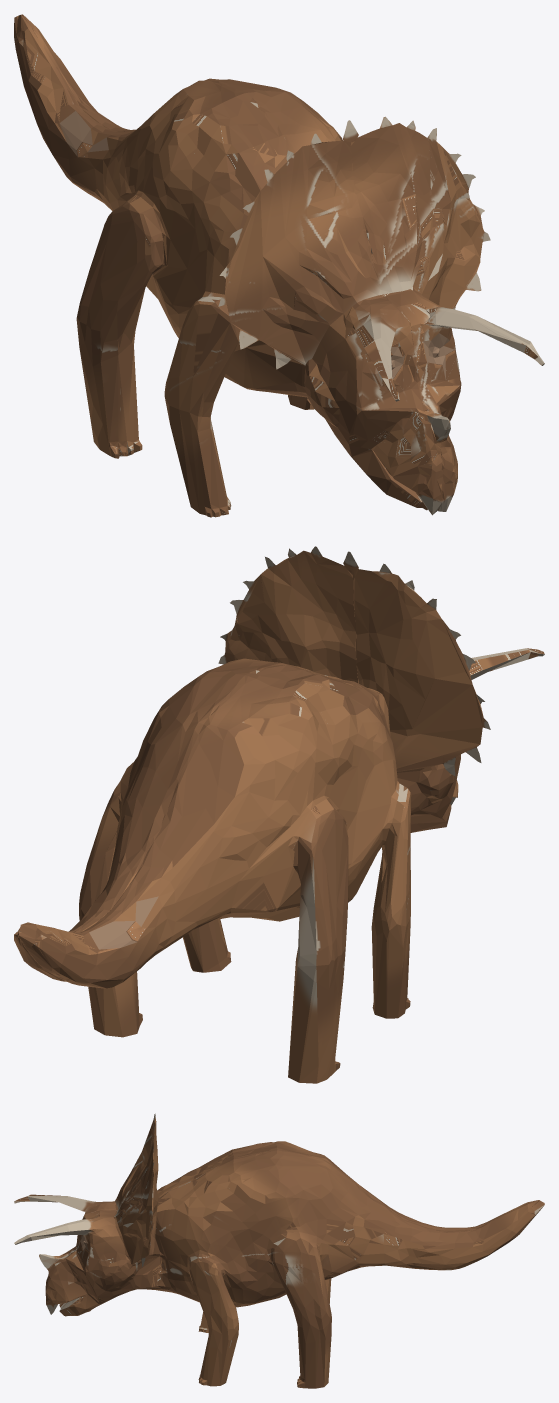
File: triceratops 1.fbx
3 views of the same model, one above another, from view 1: azimuth 30°, elevation 25°; view 2: azimuth 150°, elevation 25°; view 3: azimuth 270°, elevation 25° (orthographic). The views are drawn at different scales.
Visible parts, largest first — view 1: Plane.001; view 2: Plane.001; view 3: Plane.001.
Boxes of the visible parts, bbox=[...] form: Plane.001: bbox=[14, 14, 544, 517]; Plane.001: bbox=[14, 546, 544, 1083]; Plane.001: bbox=[14, 1113, 544, 1388].
Bounding box in the file's own units: 214 × 302 × 617.
